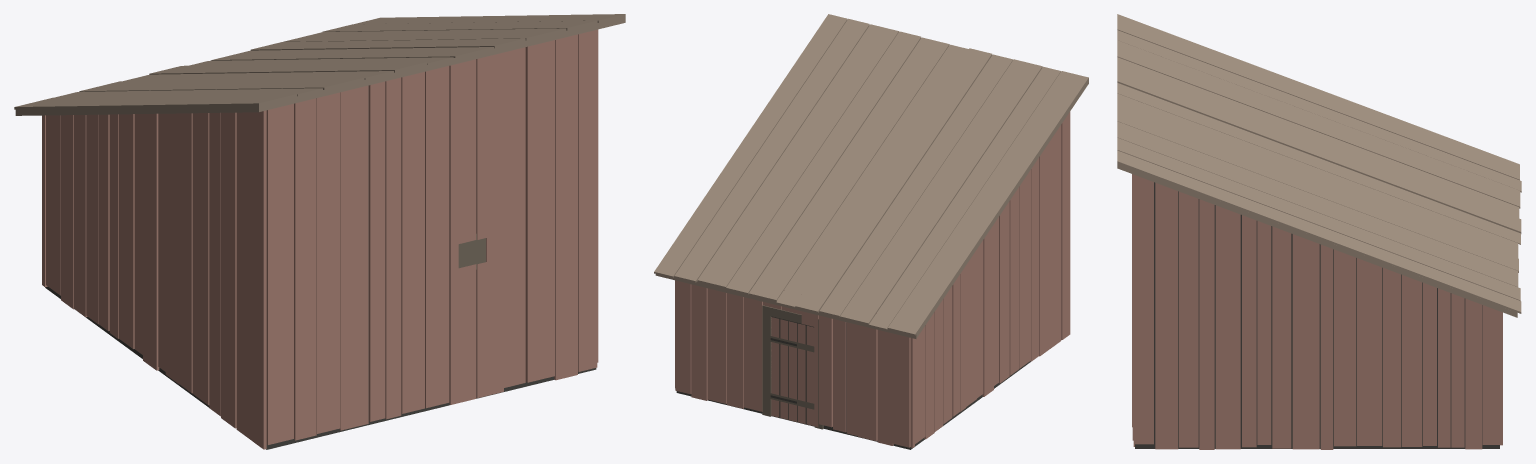
File: recon_1835_blk_randolph_market_d2_05__inferred_1835.glb
3 renders of one model, left to right at view 1: azimuth 30°, elevation 25°; view 2: azimuth 150°, elevation 25°; view 3: azimuth 270°, elevation 25°, orthographic. The views are drawn at different scales.
Visible parts, largest first — view 1: recon_1835_blk_randolph_market_d2_05__inferred_1835; view 2: recon_1835_blk_randolph_market_d2_05__inferred_1835; view 3: recon_1835_blk_randolph_market_d2_05__inferred_1835.
Part boxes in pixels (<box>): recon_1835_blk_randolph_market_d2_05__inferred_1835: <box>14,14,625,449</box>; recon_1835_blk_randolph_market_d2_05__inferred_1835: <box>654,14,1088,449</box>; recon_1835_blk_randolph_market_d2_05__inferred_1835: <box>1117,14,1521,449</box>.
Size of the model in its own units: 5.09 by 4.76 by 5.9.
